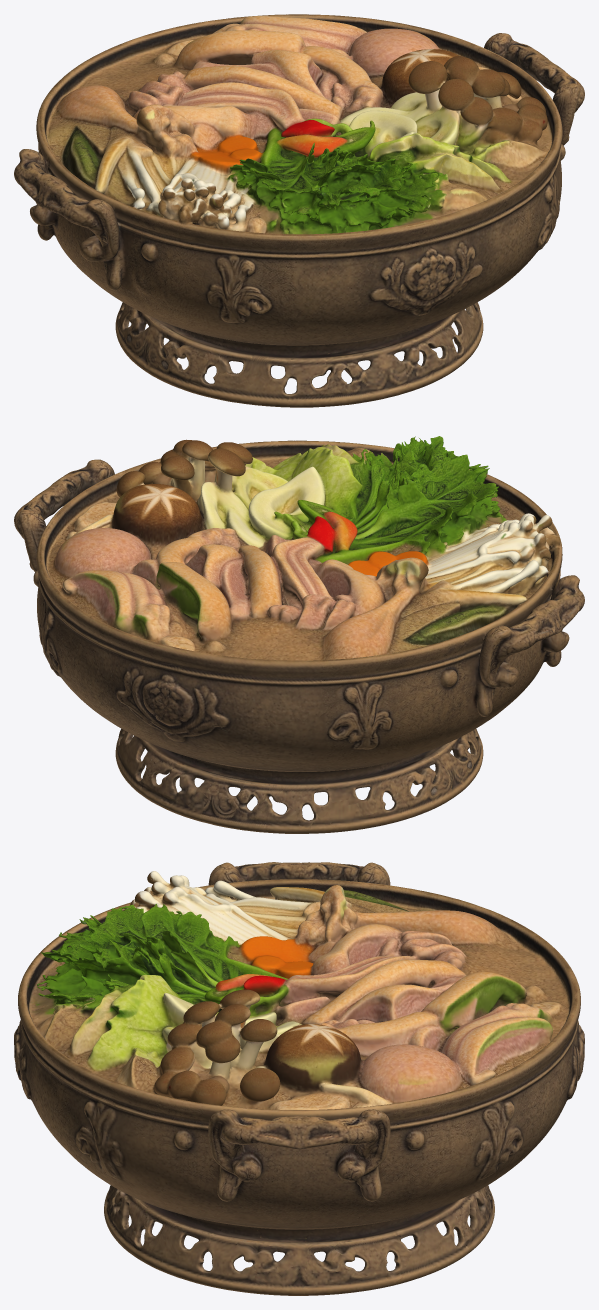
File: 오리전골.glb
The picture shows the model from 3 angles, top to bottom: view 1: azimuth 30°, elevation 25°; view 2: azimuth 150°, elevation 25°; view 3: azimuth 270°, elevation 25°; orthographic projection. The views are drawn at different scales.
Bounding box in the file's own units: 1.9 × 0.9101 × 1.69.
Materials: 1 (1 with a texture image).
